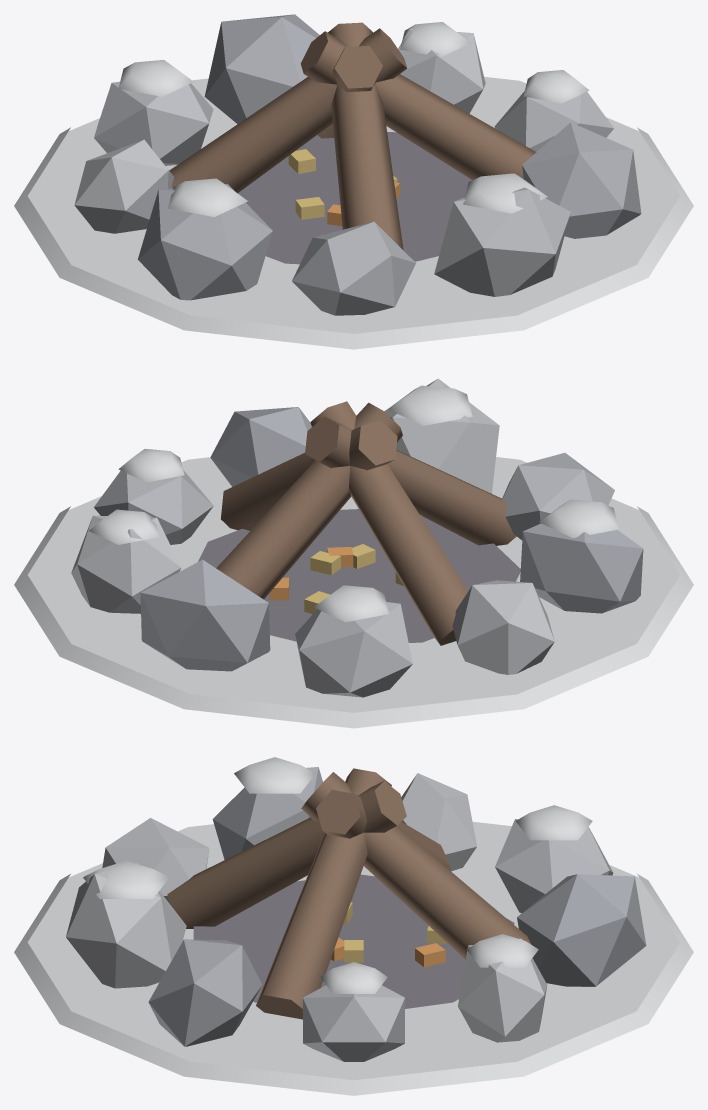
The model's file is hearth_lv1.glb.
3 views of the same model, one above another, from view 1: azimuth 30°, elevation 25°; view 2: azimuth 150°, elevation 25°; view 3: azimuth 270°, elevation 25° (orthographic).
Parts seen in each view (by area): view 1: hearth_lv1; view 2: hearth_lv1; view 3: hearth_lv1.
Boxes of the visible parts, bbox=[...] form: hearth_lv1: bbox=[14, 14, 693, 349]; hearth_lv1: bbox=[14, 378, 693, 728]; hearth_lv1: bbox=[14, 757, 693, 1095].
Bounding box in the file's own units: 2.5 × 0.7961 × 2.5.
